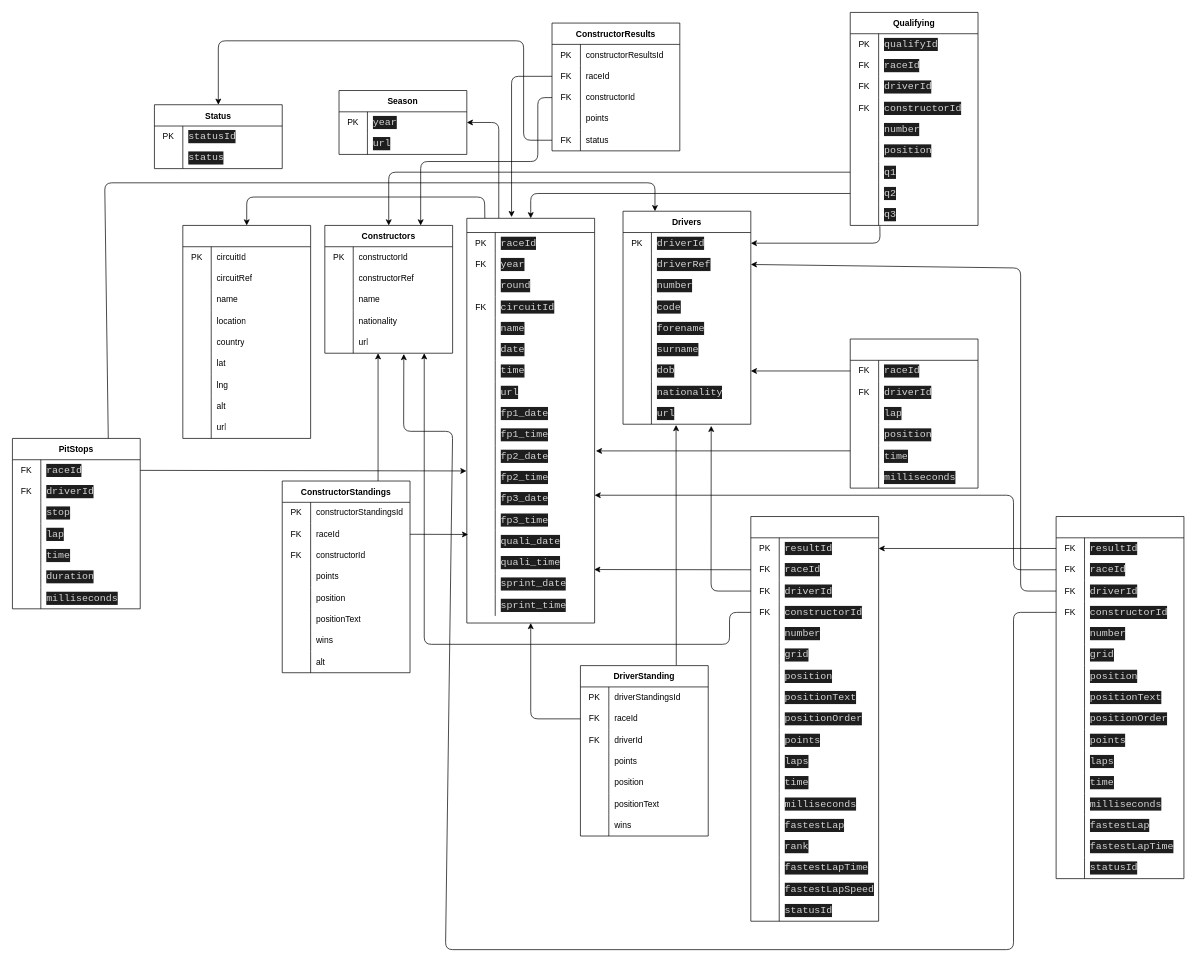
Some shapes in this 1196 by 968 pixel diagram are drawn without their labels. The shapes that lost their labels are listed below. From the top down, each one's box as (x1, y1, x2, y2) in pixels, then its label:
(182, 225, 311, 438): Circuits
(466, 218, 595, 623): Races
(850, 338, 978, 488): LapTime
(1055, 516, 1184, 879): SprintResults
(750, 516, 879, 921): Results
